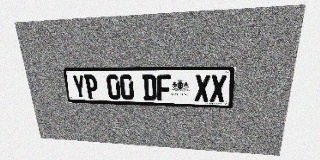0: (106, 75, 121, 100), (119, 75, 134, 100)
D: (142, 75, 157, 101)
F: (156, 75, 171, 101)
P: (84, 75, 99, 99)
X: (210, 75, 227, 102), (194, 75, 210, 102)
Y: (71, 75, 87, 99)
